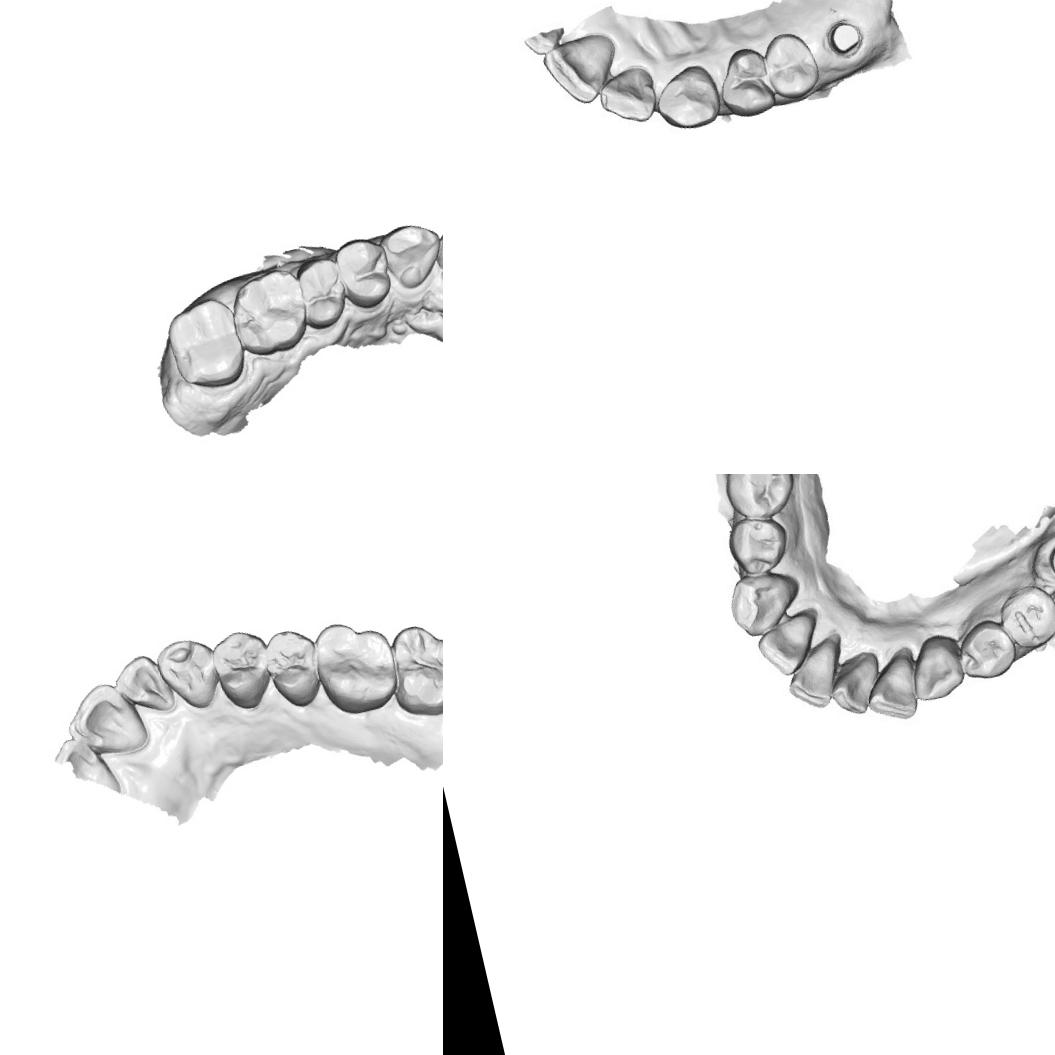abutment: (822, 13, 869, 62)
canine: (152, 632, 224, 715), (650, 60, 724, 136), (728, 568, 810, 636), (376, 217, 443, 295), (907, 632, 973, 704)
incisor: (58, 674, 153, 767), (540, 27, 629, 112), (750, 606, 827, 683), (777, 633, 853, 710), (860, 646, 930, 725), (108, 648, 178, 726), (595, 63, 664, 132), (820, 654, 884, 718), (428, 220, 443, 291)
molar: (308, 612, 405, 724), (158, 291, 253, 397), (223, 260, 318, 364), (380, 615, 443, 724)
premolar: (207, 624, 279, 716), (261, 624, 328, 714), (330, 230, 400, 315), (286, 250, 355, 334), (710, 42, 779, 123), (757, 26, 824, 102), (953, 615, 1021, 687), (721, 507, 791, 576), (990, 585, 1055, 654), (720, 474, 798, 524)
